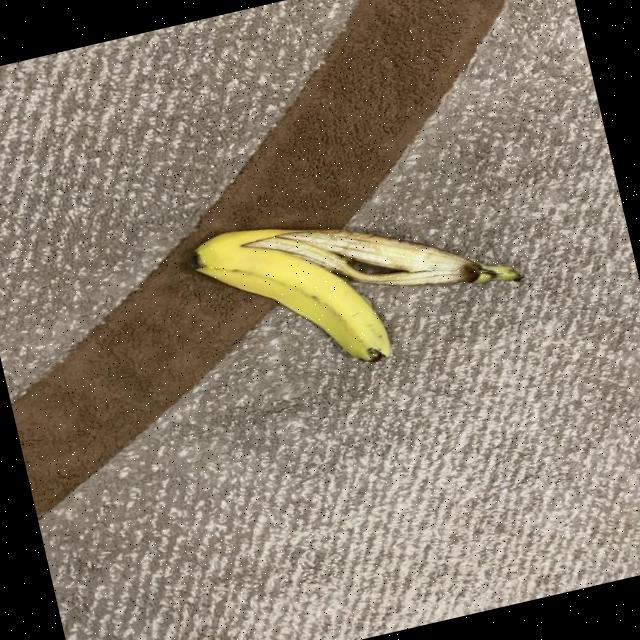banana-peel: (184, 166, 534, 398)
